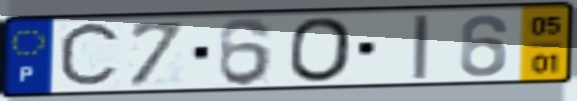6: (216, 15, 276, 89), (457, 12, 511, 79)
7: (127, 19, 189, 89)
C: (55, 18, 125, 93)
I: (409, 12, 431, 82)
O: (287, 15, 355, 85)
